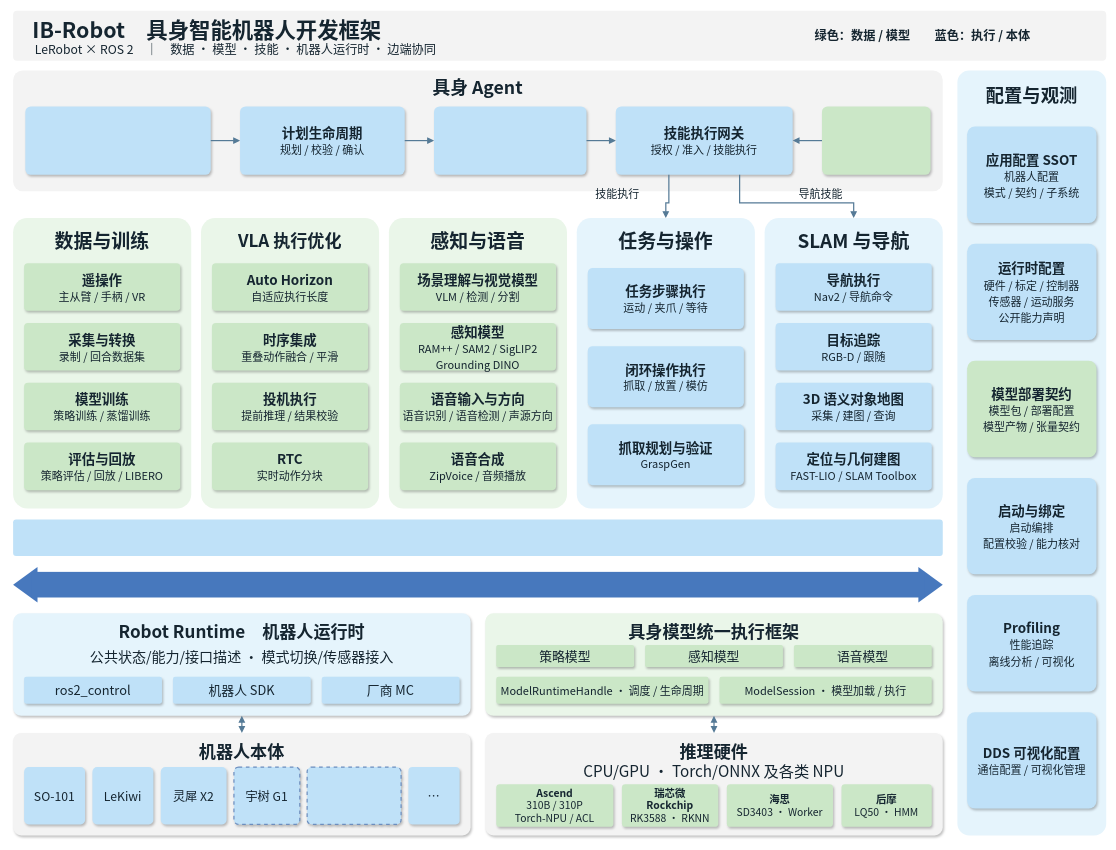
Image size: 1116x850. Some labels were removed from this diagram. Here are the shapes that lost their labels. From the top down, the centre of each, then its label:
(x=118, y=141): Agent 入口 Hermes / 自然语言入口 受控技能调用
(x=510, y=141): 安全预检 只读校验 / 运行时状态
(x=876, y=141): 技能目录 编译 / 快照
(x=477, y=537): Contract · tensormsg ROS 消息 ↔ tensor ｜ 时间戳对齐 ｜ 采集 / 转换 / 策略推理共享数据契约
(x=477, y=584): IBMW · ROS 2 / DDS Topic · Service · Action ｜ 图像可选 H.264 RTP/UDP 传输
(x=354, y=796): 萝博派对 （RoboParty）
